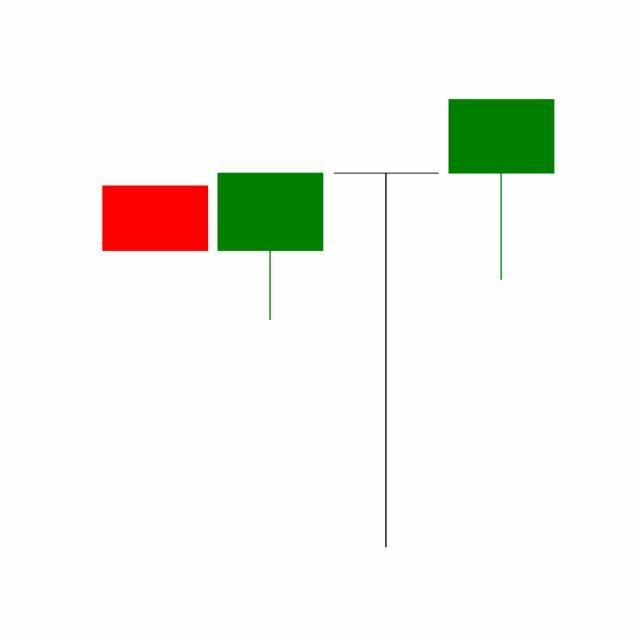Dragonfly Doji: (329, 169, 445, 552)
